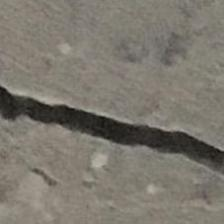Crack: (0, 37, 223, 224)
